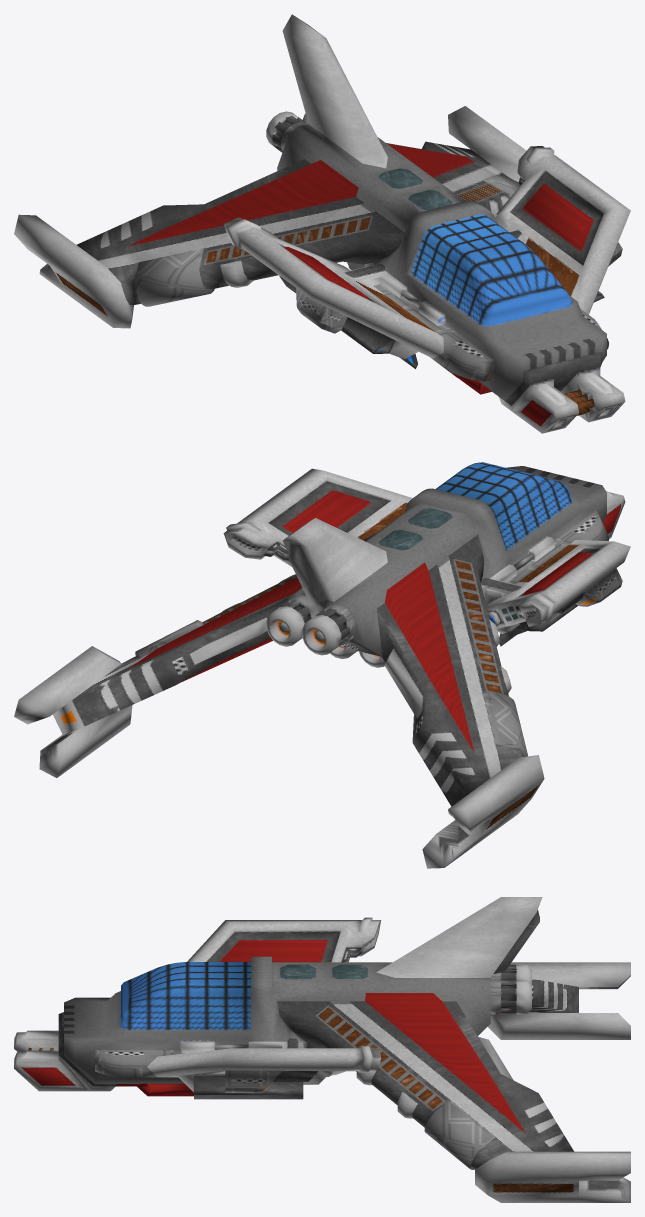
The model's file is fighter02.fbx.
3 views of the same model, one above another, from view 1: azimuth 30°, elevation 25°; view 2: azimuth 150°, elevation 25°; view 3: azimuth 270°, elevation 25° (orthographic). The views are drawn at different scales.
Parts seen in each view (by area): view 1: Mesh; view 2: Mesh; view 3: Mesh.
Part boxes in pixels (x1,y1,x2,y2): Mesh: (14,14,630,433); Mesh: (14,462,630,868); Mesh: (14,897,630,1202).
Size of the model in its own units: 895 by 472 by 1186.
1 material, 1 textured.
